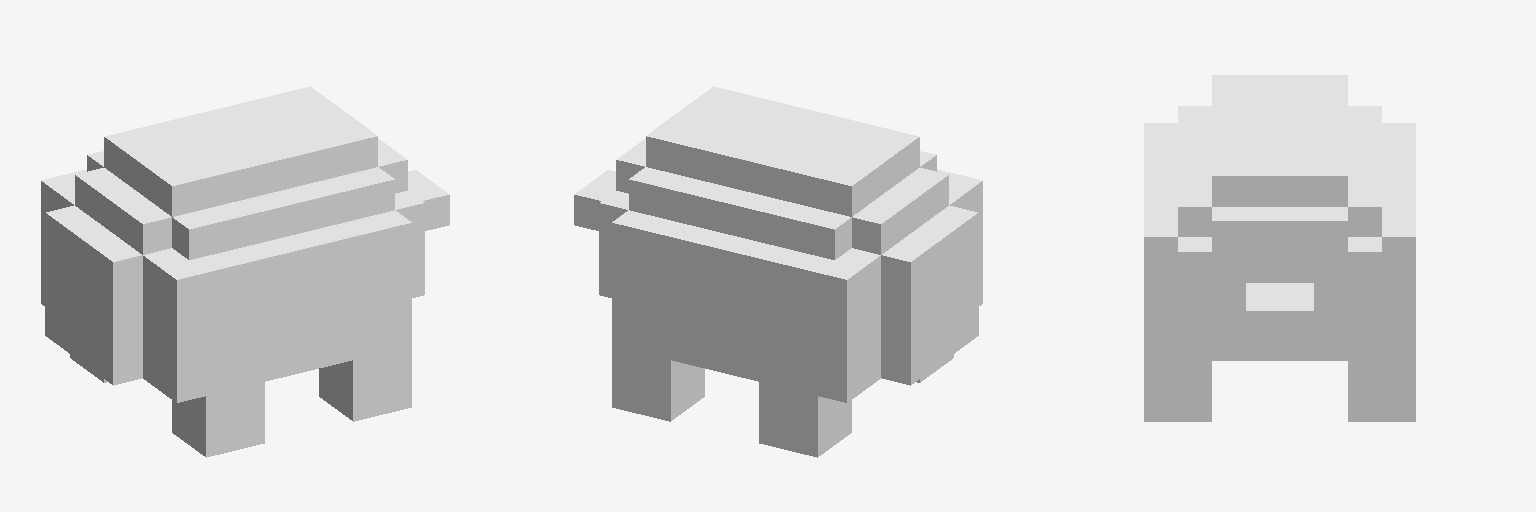
File: hedgehog.obj
3 renders of one model, left to right at view 1: azimuth 30°, elevation 25°; view 2: azimuth 150°, elevation 25°; view 3: azimuth 270°, elevation 25°, orthographic.
Visible parts, largest first — view 1: hedgehog; view 2: hedgehog; view 3: hedgehog.
Boxes of the visible parts, box(x1,y1,x2,y2) form: hedgehog: box(41, 86, 449, 457); hedgehog: box(574, 86, 982, 457); hedgehog: box(1144, 75, 1415, 421).
Size of the model in its own units: 12 by 8 by 8.